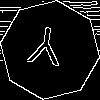Y: (25, 25, 65, 75)
